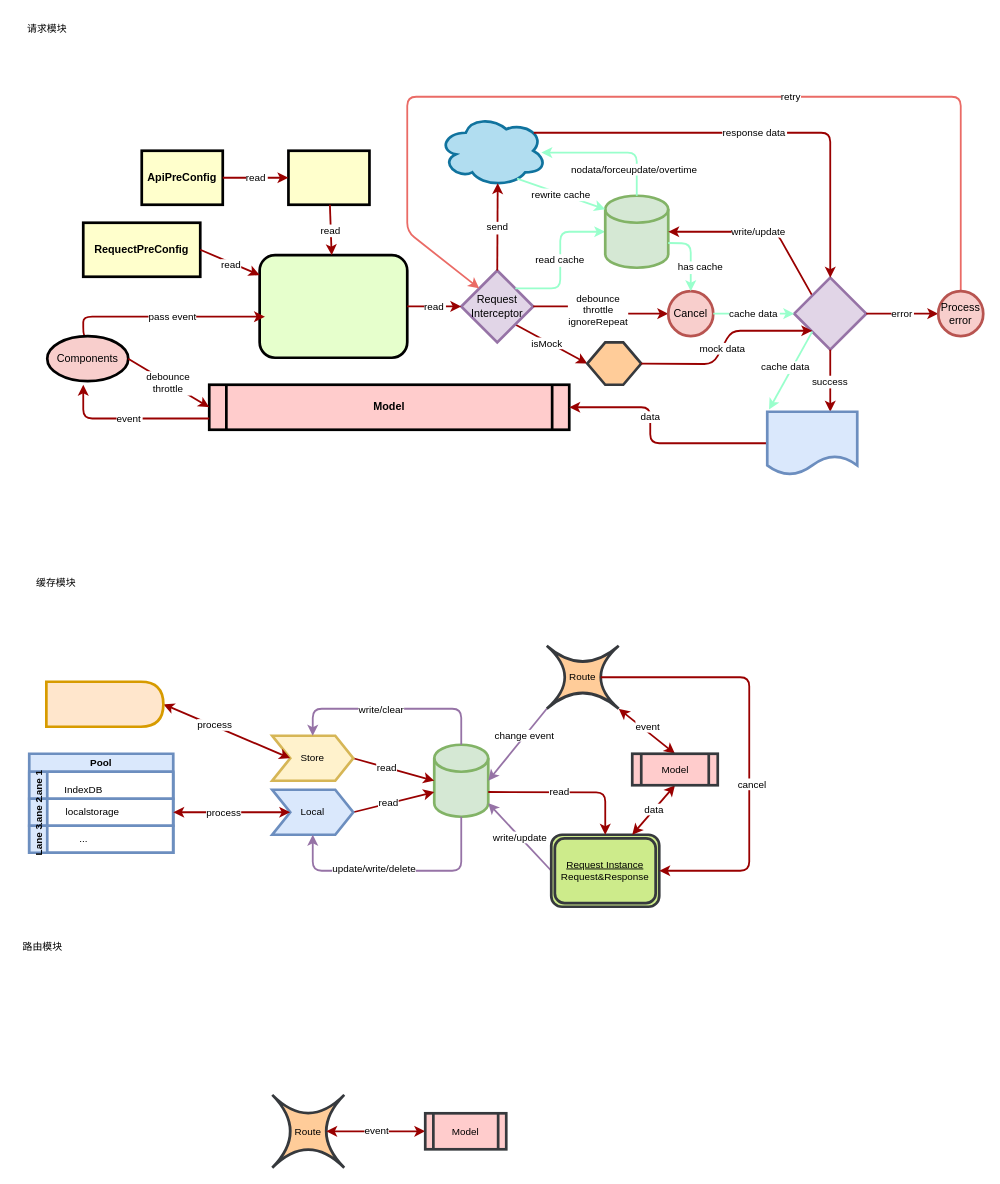
This 1000x1184 diagram has some shape labels left out. The centre of each missing label's shape, as x and y in pixels:
API: pixel 328 177
Cache: pixel 460 780
Cache Data Memory Local: pixel 636 231
Cloud Data: pixel 492 150
Format Data: pixel 811 443
Global vuex/pinia/global: pixel 104 704
Mock: pixel 613 363
Request Instance merge( event config > ApiPreConfig > RequstPreConfig ): pixel 333 306
Response Interceptor: pixel 829 313
